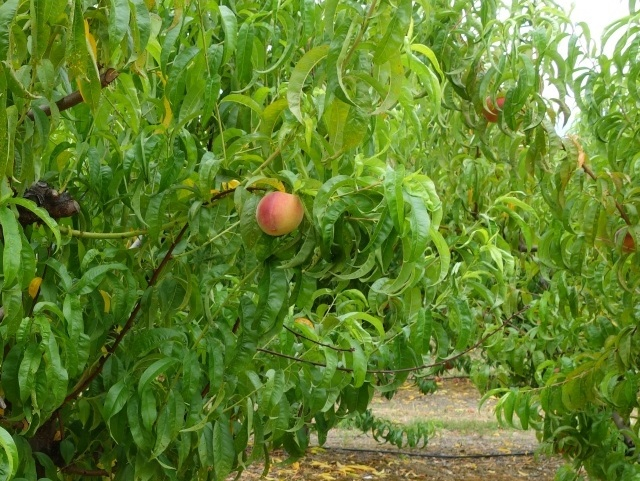peach: (252, 186, 308, 238), (480, 90, 509, 126), (613, 225, 636, 256)
